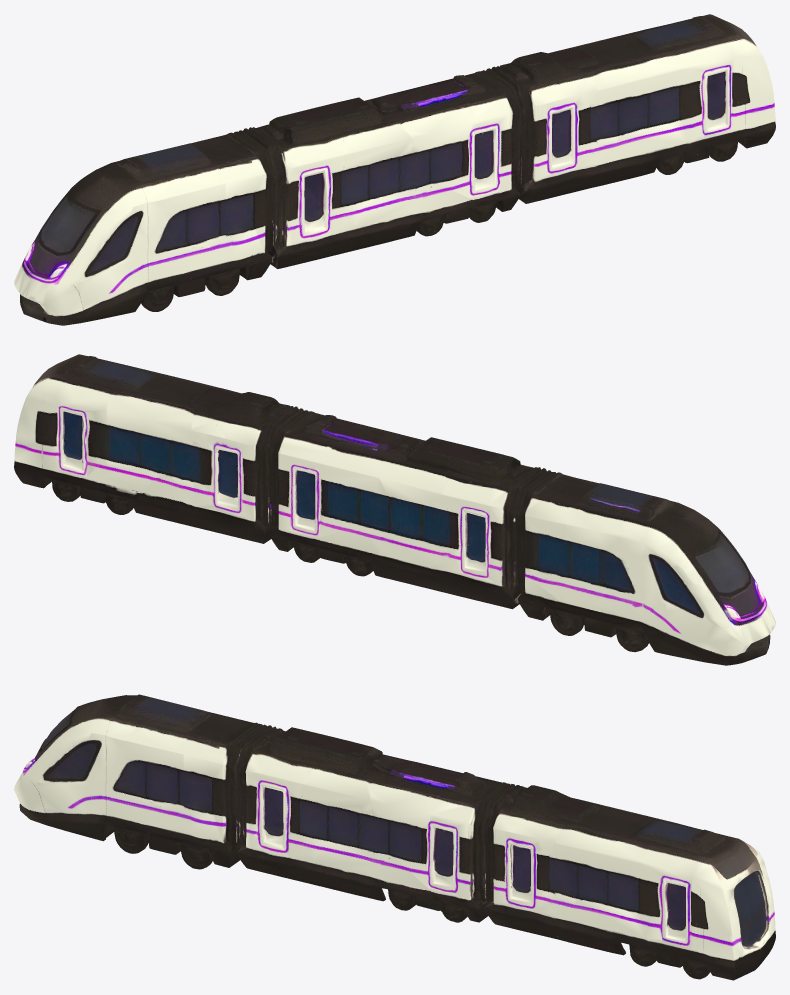
The model's file is ultraviolet-express.glb.
The picture shows the model from 3 angles, top to bottom: view 1: azimuth 30°, elevation 25°; view 2: azimuth 150°, elevation 25°; view 3: azimuth 330°, elevation 25°; orthographic projection.
Parts seen in each view (by area): view 1: mesh_node; view 2: mesh_node; view 3: mesh_node.
Boxes of the visible parts, x1,y1,x2,y2 form: mesh_node: [14, 14, 775, 325]; mesh_node: [14, 354, 775, 665]; mesh_node: [14, 694, 775, 980].
Size of the model in its own units: 1.9 by 0.3591 by 0.1892.
1 material, 1 textured.
